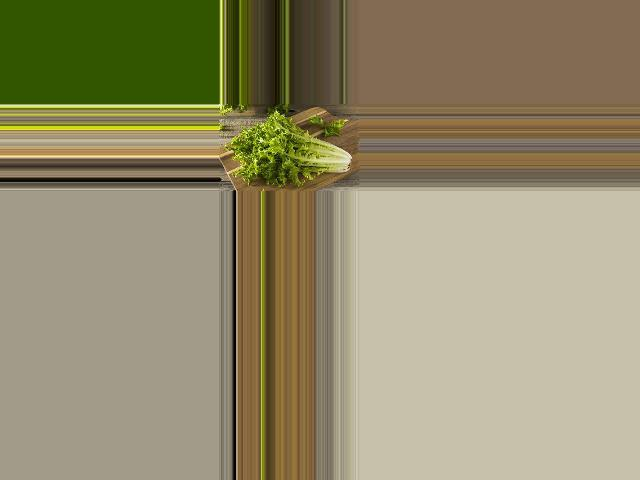lettuce: (231, 113, 358, 187)
